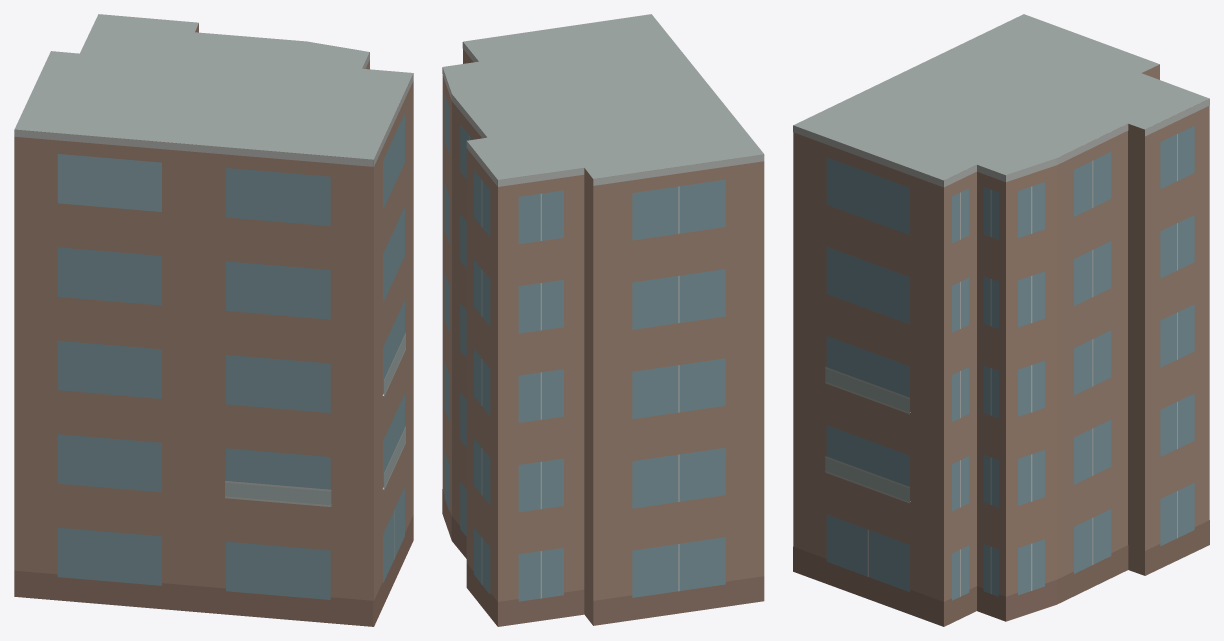
Rendered from survey-upis-33018595.glb.
3 renders of one model, left to right at view 1: azimuth 30°, elevation 25°; view 2: azimuth 150°, elevation 25°; view 3: azimuth 270°, elevation 25°, orthographic. The views are drawn at different scales.
Parts seen in each view (by area): view 1: survey-upis-33018595.tmp; view 2: survey-upis-33018595.tmp; view 3: survey-upis-33018595.tmp.
Part boxes in pixels (left/top/right/bottom): survey-upis-33018595.tmp: left=14, top=14, right=413, bottom=626; survey-upis-33018595.tmp: left=442, top=14, right=764, bottom=626; survey-upis-33018595.tmp: left=793, top=14, right=1209, bottom=626.
Bounding box in the file's own units: 12.57 × 15.7 × 13.29.
